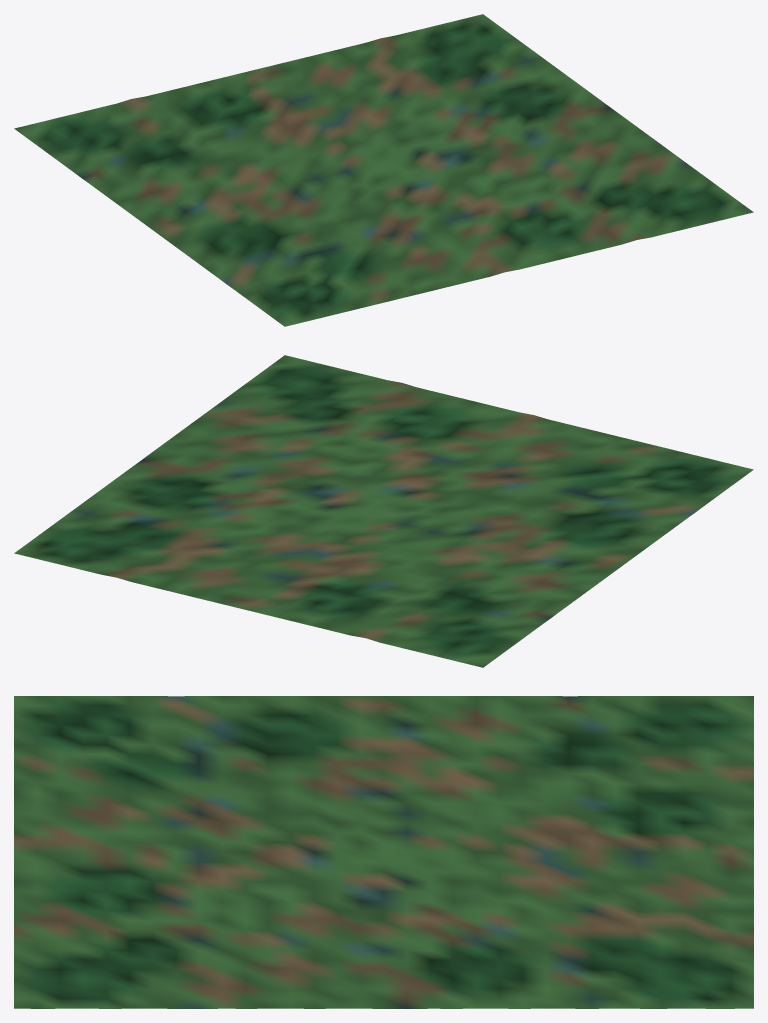
The picture shows the model from 3 angles, top to bottom: view 1: azimuth 30°, elevation 25°; view 2: azimuth 150°, elevation 25°; view 3: azimuth 270°, elevation 25°; orthographic projection. The views are drawn at different scales.
Visible parts, largest first — view 1: meridian_terrain-lod1; view 2: meridian_terrain-lod1; view 3: meridian_terrain-lod1.
Part boxes in pixels (x1,y1,x2,y2): meridian_terrain-lod1: (14,14,753,326); meridian_terrain-lod1: (14,355,753,667); meridian_terrain-lod1: (14,696,753,1008).
Bounding box in the file's own units: 1536 × 3.61 × 1536.
